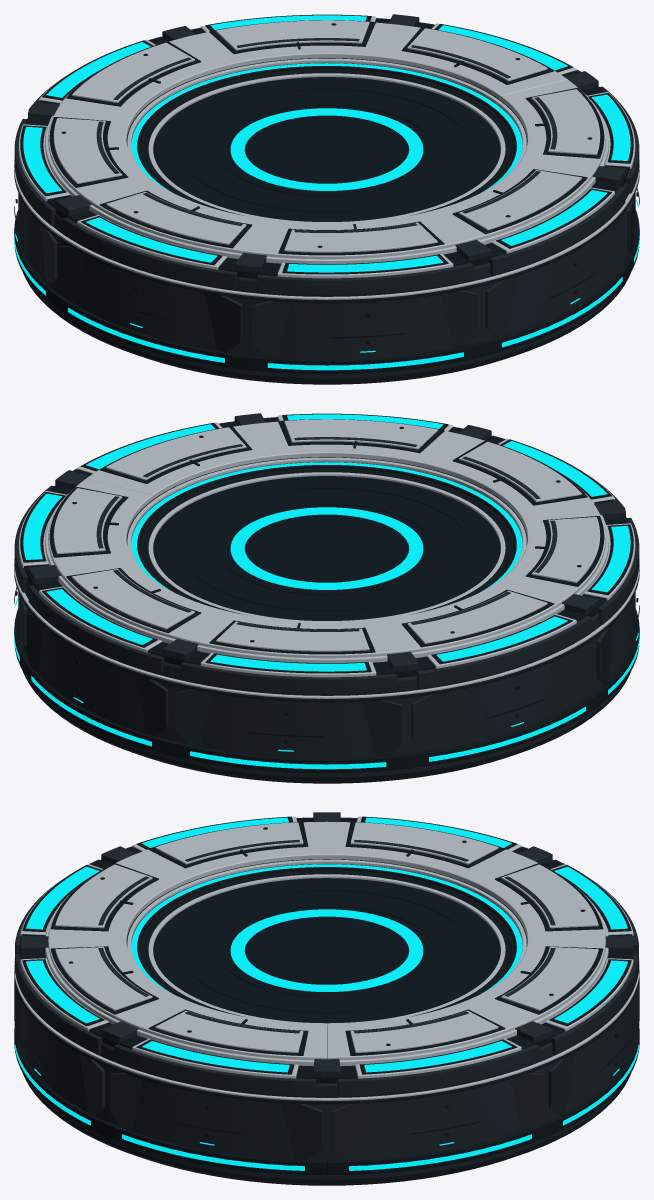
Rendered from Standard.fbx.
The picture shows the model from 3 angles, top to bottom: view 1: azimuth 30°, elevation 25°; view 2: azimuth 150°, elevation 25°; view 3: azimuth 270°, elevation 25°; orthographic projection.
Visible parts, largest first — view 1: SM_Puck_Standard; view 2: SM_Puck_Standard; view 3: SM_Puck_Standard.
Boxes of the visible parts, x1,y1,x2,y2 form: SM_Puck_Standard: (14,14,639,384); SM_Puck_Standard: (14,413,639,783); SM_Puck_Standard: (14,812,639,1185).
Size of the model in its own units: 89.91 by 89.91 by 19.92.
